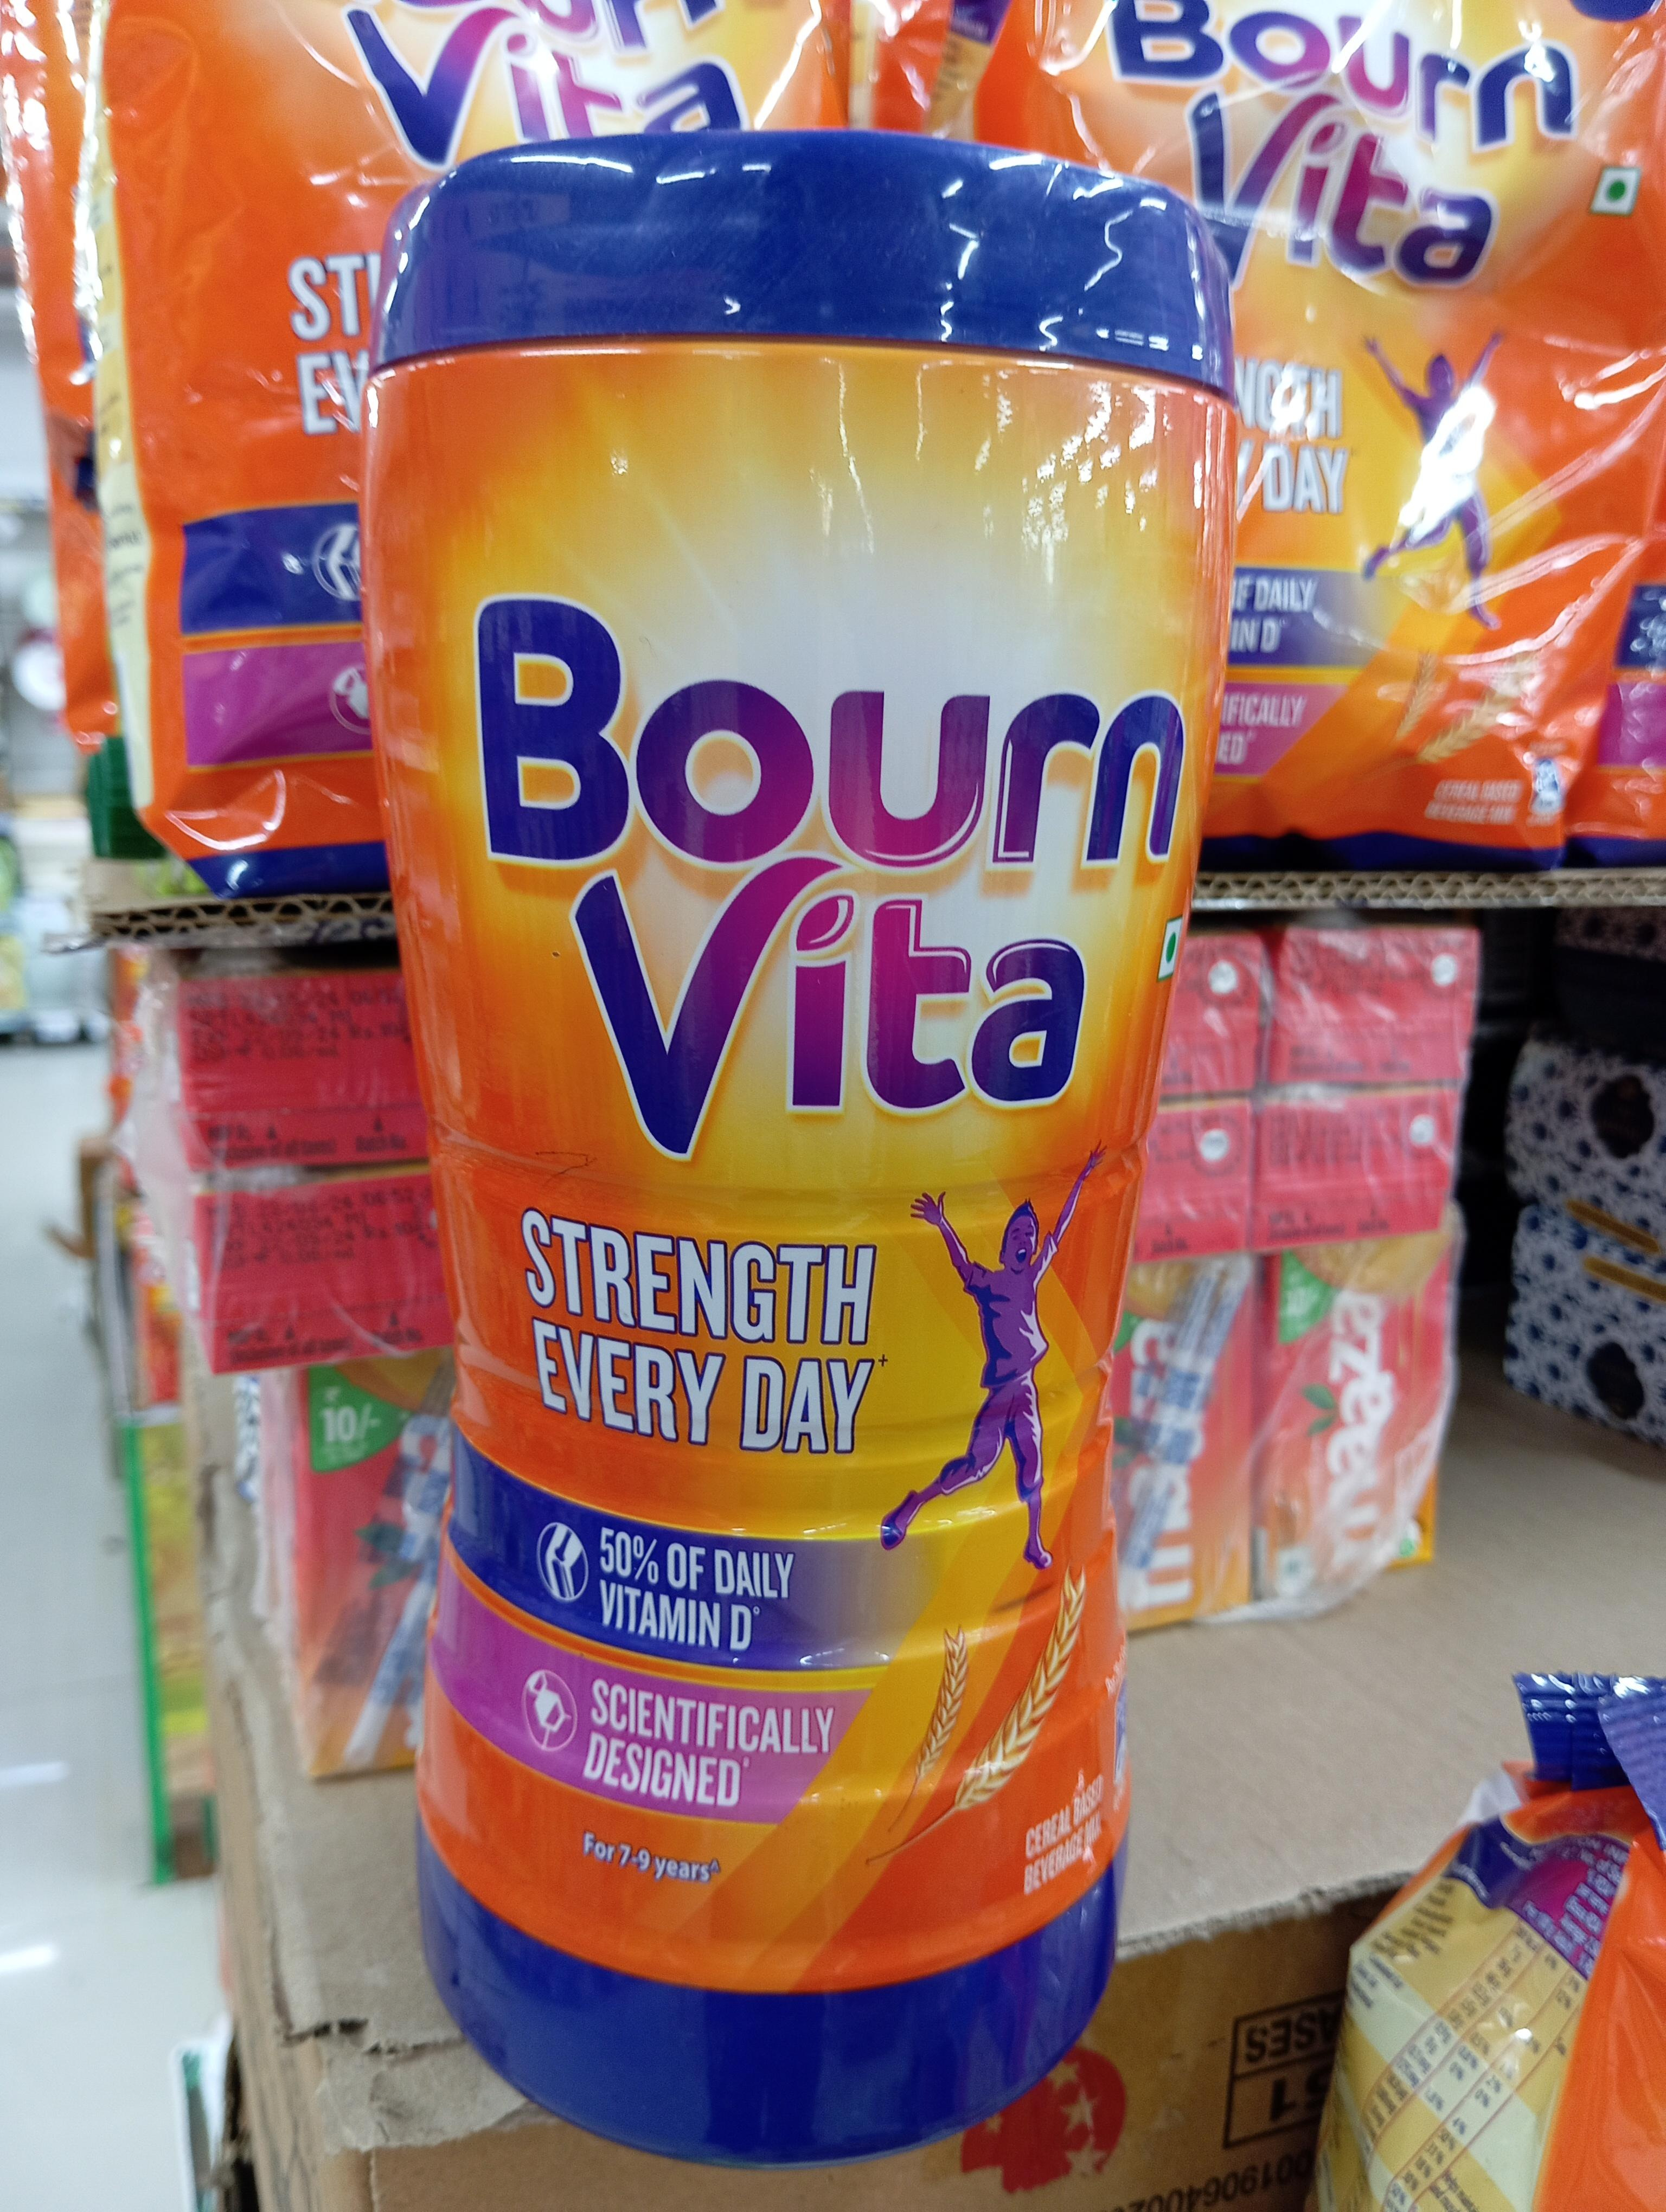BOURN_VITA_1_KG_JAR: (380, 136, 1199, 2163)
